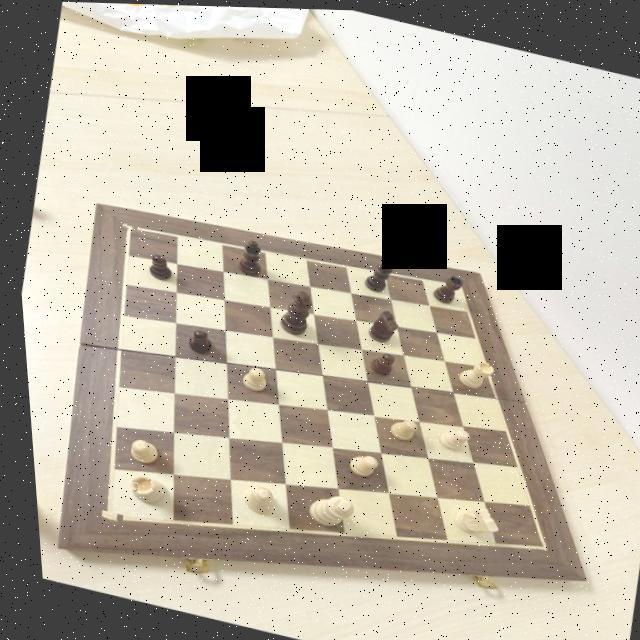chess-table-corners: (90, 510, 114, 526), (524, 538, 544, 552), (116, 221, 133, 233)
